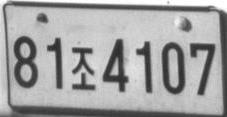0: (160, 41, 186, 94)
1: (131, 40, 159, 93), (44, 36, 70, 89)
4: (101, 37, 129, 92)
7: (189, 42, 216, 96)
8: (12, 35, 38, 88)
조: (71, 46, 96, 90)
